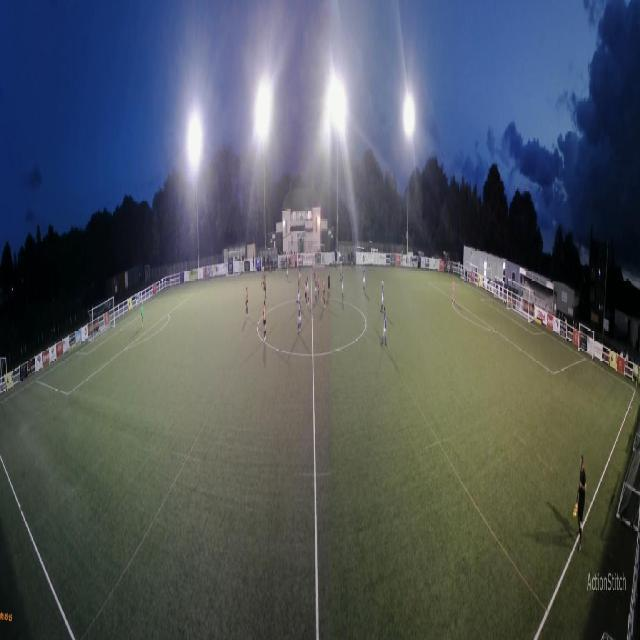ball: (308, 301, 310, 308)
player: (381, 306, 387, 347), (297, 295, 302, 335), (263, 301, 267, 342), (321, 276, 326, 308), (380, 280, 384, 315), (296, 278, 301, 304), (245, 286, 249, 318), (362, 265, 366, 295), (306, 276, 310, 304), (340, 272, 344, 299), (327, 272, 331, 299), (313, 276, 317, 303), (141, 301, 145, 328), (451, 277, 455, 303), (264, 274, 267, 304), (261, 266, 265, 288), (317, 270, 320, 298), (304, 281, 307, 308), (299, 262, 302, 287), (286, 261, 289, 281), (313, 262, 316, 279), (340, 262, 342, 280)
